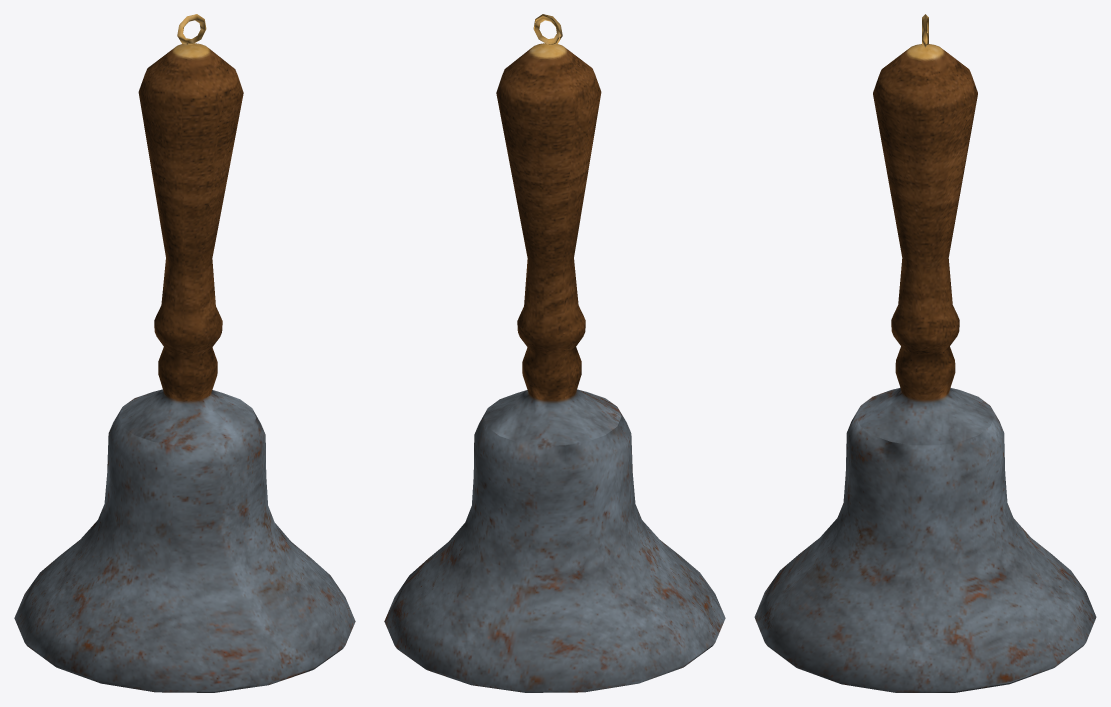
Rendered from chuong.glb.
The picture shows the model from 3 angles, left to right: view 1: azimuth 30°, elevation 25°; view 2: azimuth 150°, elevation 25°; view 3: azimuth 270°, elevation 25°; orthographic projection.
Visible parts, largest first — view 1: chuong; view 2: chuong; view 3: chuong.
Boxes of the visible parts, x1=… form: chuong: x1=14, y1=14, x2=355, y2=692; chuong: x1=384, y1=14, x2=725, y2=692; chuong: x1=754, y1=14, x2=1096, y2=692.
Size of the model in its own units: 0.9759 by 2 by 0.991.
1 material, 1 textured.
